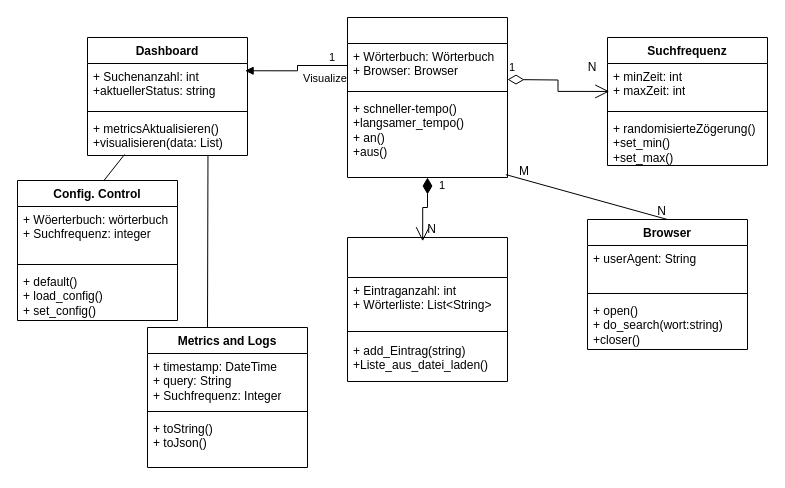
This 785x488 diagram has some shape labels left out. The box of each missing label's shape, as (x1, y1, x2, y2) in pixels:
Entropy Engine: (346, 16, 508, 178)
Wörterbuch: (346, 236, 508, 382)
